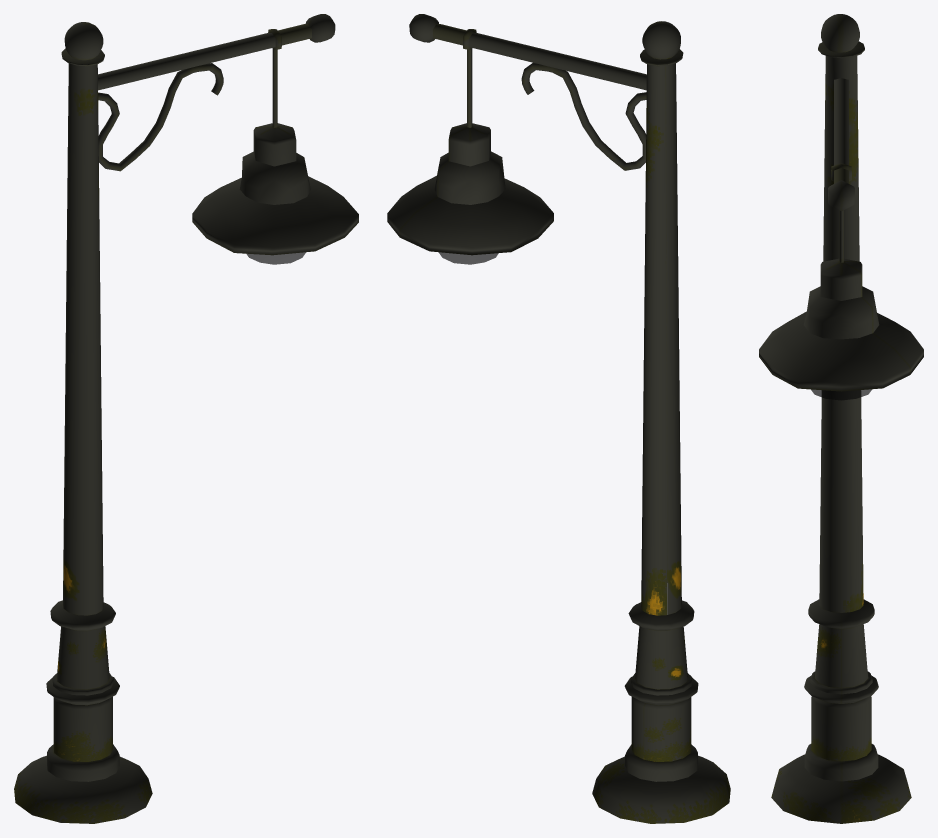
The model's file is farola.obj.
3 renders of one model, left to right at view 1: azimuth 30°, elevation 25°; view 2: azimuth 150°, elevation 25°; view 3: azimuth 270°, elevation 25°, orthographic.
Visible parts, largest first — view 1: obj3; view 2: obj3; view 3: obj3, obj1.
Part boxes in pixels (x1,y1,x2,y2): obj3: (14,14,358,823); obj3: (387,14,730,823); obj3: (759,14,923,823); obj1: (811,389,871,400).
Size of the model in its own units: 8.95 by 20.63 by 3.96.
